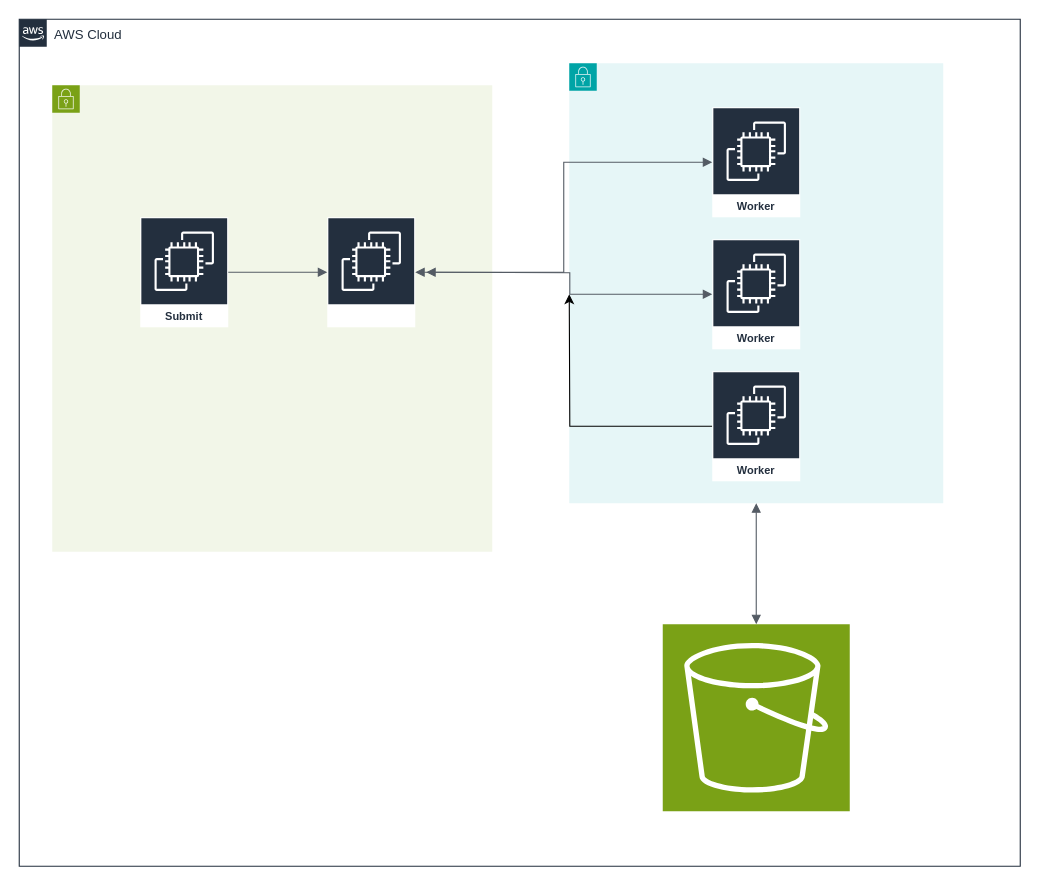
The diagram is 1040 pixels wide and 886 high, and some of its shapes have lost their labels. Here are the shapes that lost their labels. From the top down, the box of each, then its label:
(326, 216, 415, 327): Master
(568, 62, 943, 503): Private subnet
(51, 84, 492, 552): Public subnet
